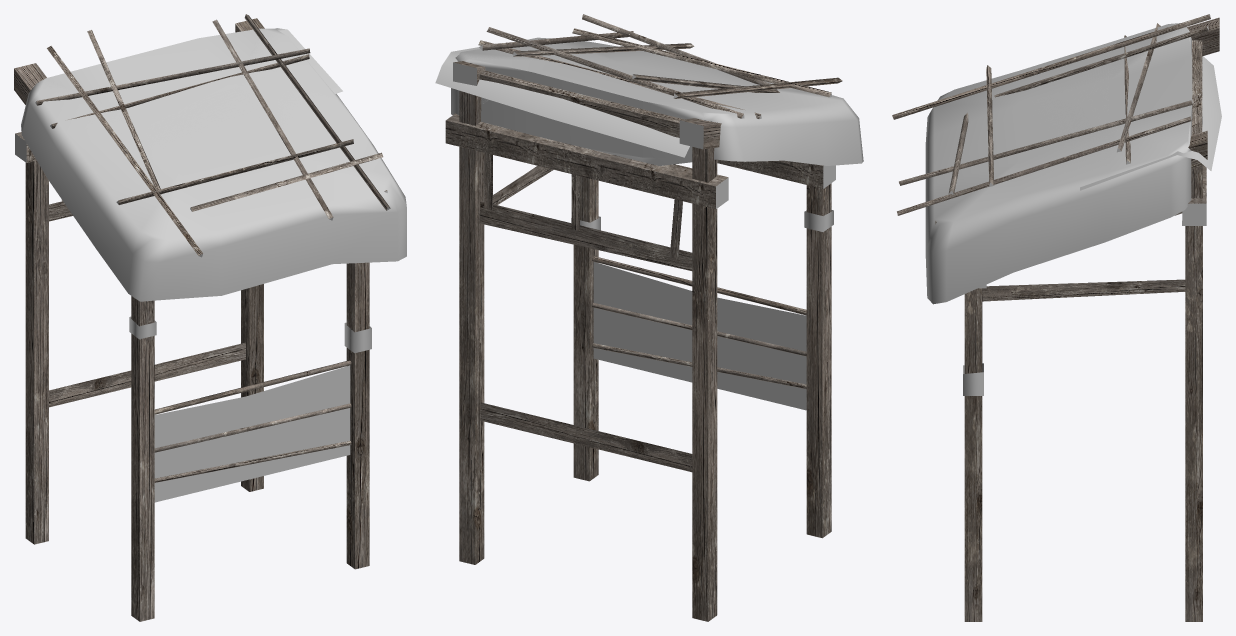
Rendered from Stall4_LOD1.fbx.
The picture shows the model from 3 angles, left to right: view 1: azimuth 30°, elevation 25°; view 2: azimuth 150°, elevation 25°; view 3: azimuth 270°, elevation 25°; orthographic projection. The views are drawn at different scales.
Parts seen in each view (by area): view 1: polySurface3020; view 2: polySurface3020; view 3: polySurface3020.
Boxes of the visible parts, x1,y1,x2,y2 form: polySurface3020: (14,14,406,621); polySurface3020: (435,14,863,621); polySurface3020: (892,14,1221,621).
Size of the model in its own units: 3.47 by 5.77 by 3.36.
